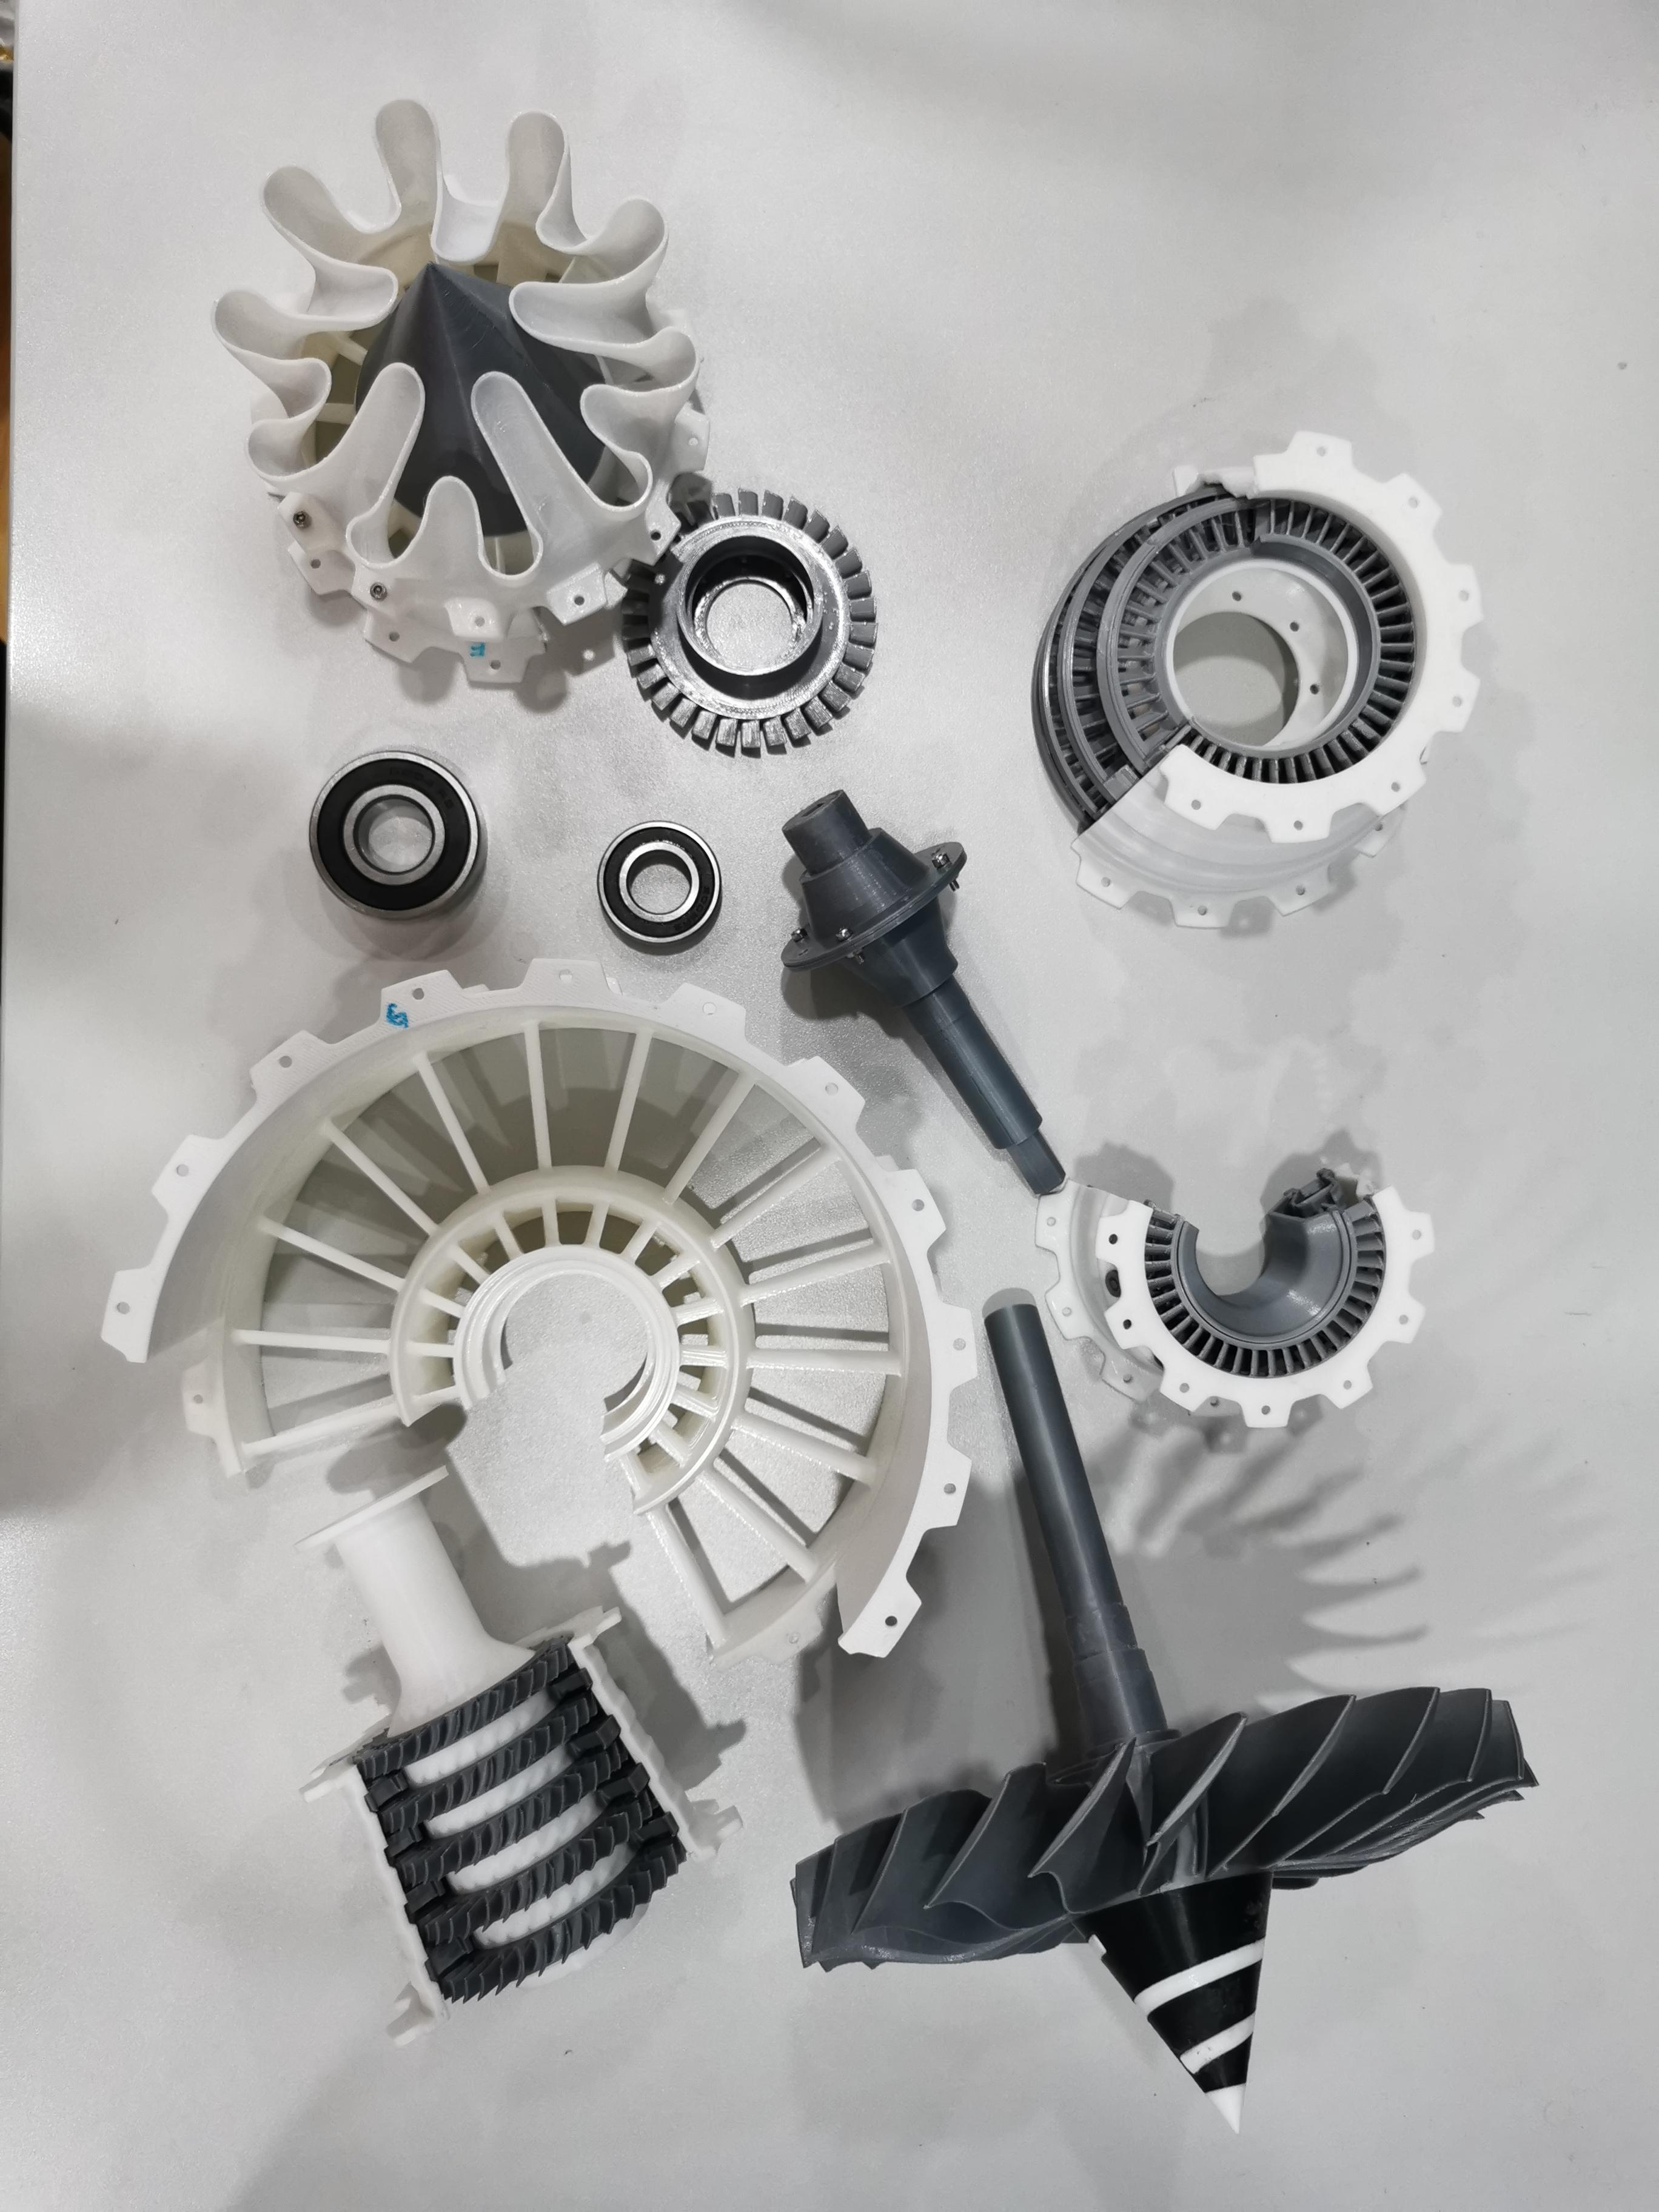Bearing-6003: (566, 810, 734, 963)
Bearing-6204: (282, 730, 511, 946)
Combustion Section: (1018, 1144, 1462, 1440)
Fan Casing and Support: (91, 948, 992, 1669)
Fan and Low Pressure Shaft: (779, 1296, 1553, 2144)
HPT Section: (599, 474, 896, 765)
High Pressure Spool: (282, 1453, 751, 2054)
LPT Section: (1007, 420, 1493, 944)
Low Pressure Spool: (760, 772, 1080, 1205)
Nozzle Section: (188, 91, 716, 693)
